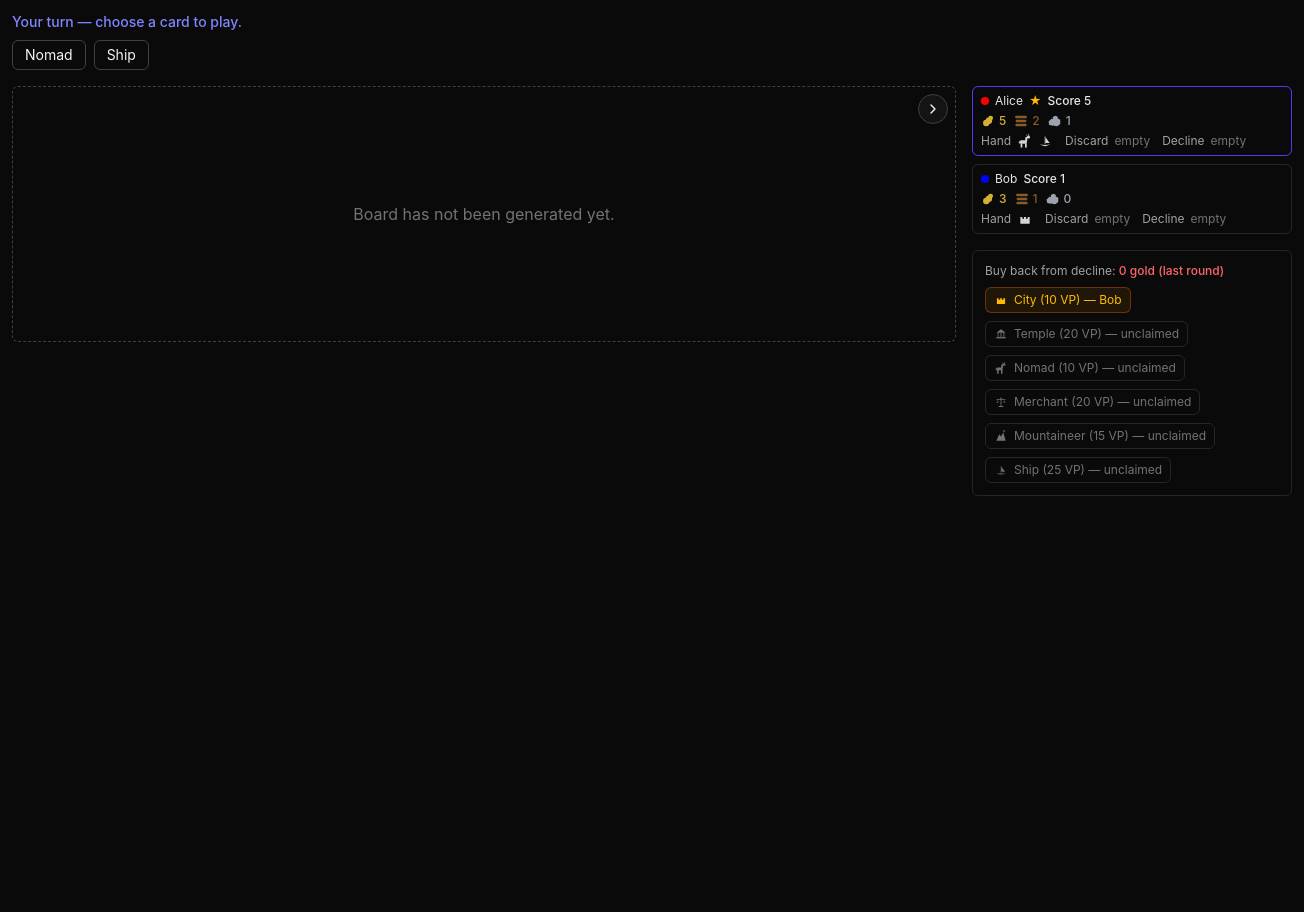
RoundView — player detail panel (click a player chip for more info) › is collapsed until a player's chip is clicked, then shows their full VP breakdown, cards by zone, unit counts, and resources — and collapses again on a second c
The width and height of the screenshot is (1304, 912).
Expected: the text "VP breakdown" is not shown
Step 1. Click the button "Alice" → (1066, 100), box [972, 86, 1292, 156]
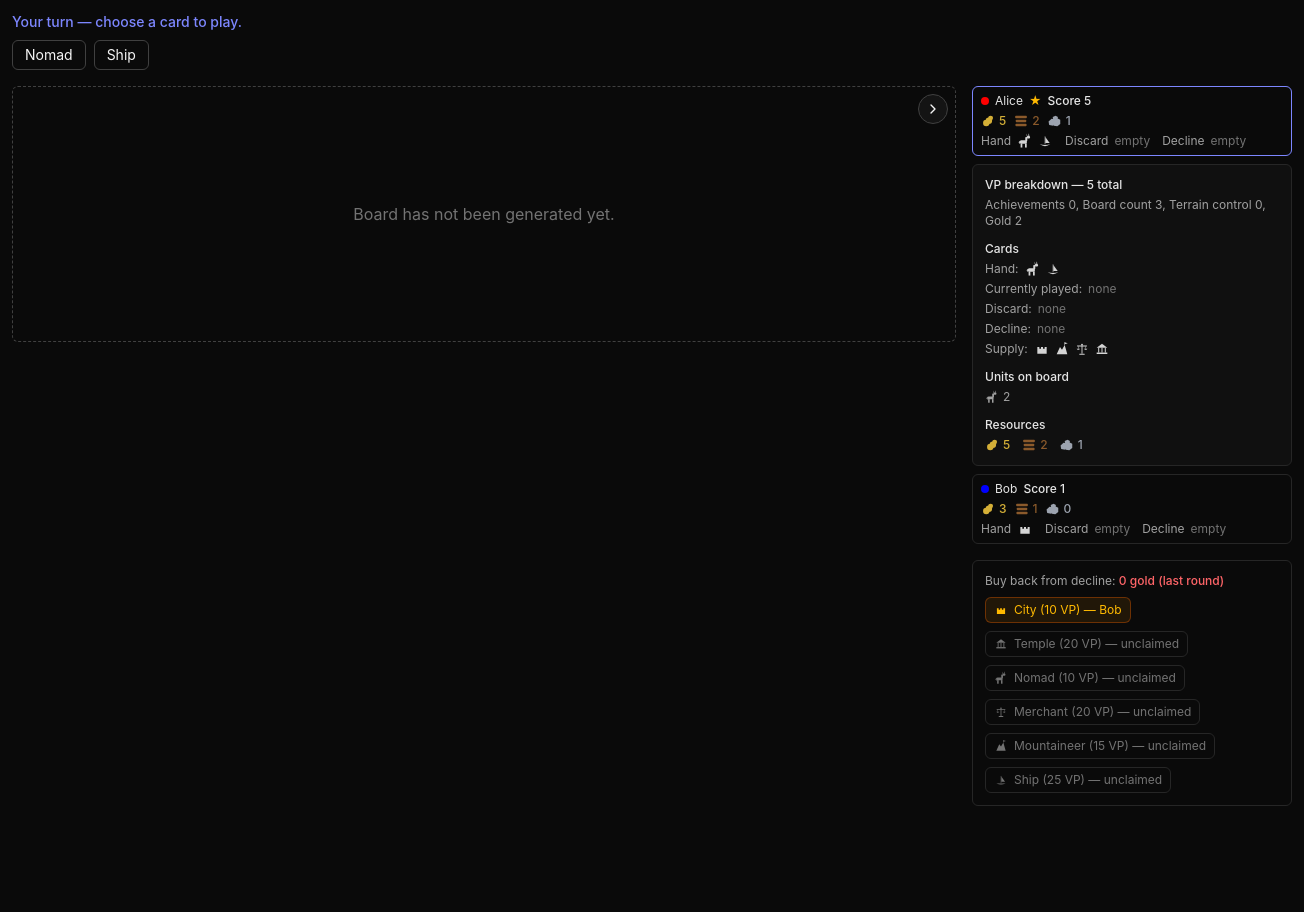
Expected: the text "VP breakdown — 5 total" is shown, [985, 177, 1122, 192]
Expected: the text "Achievements 0, Board count 3, Terrain control 0, Gold 2" is shown, [985, 197, 1279, 229]
Expected: the text "Supply:" is shown, [985, 341, 1110, 357]
Step 2. Click the button "Alice" → (1066, 100), box [972, 86, 1292, 156]
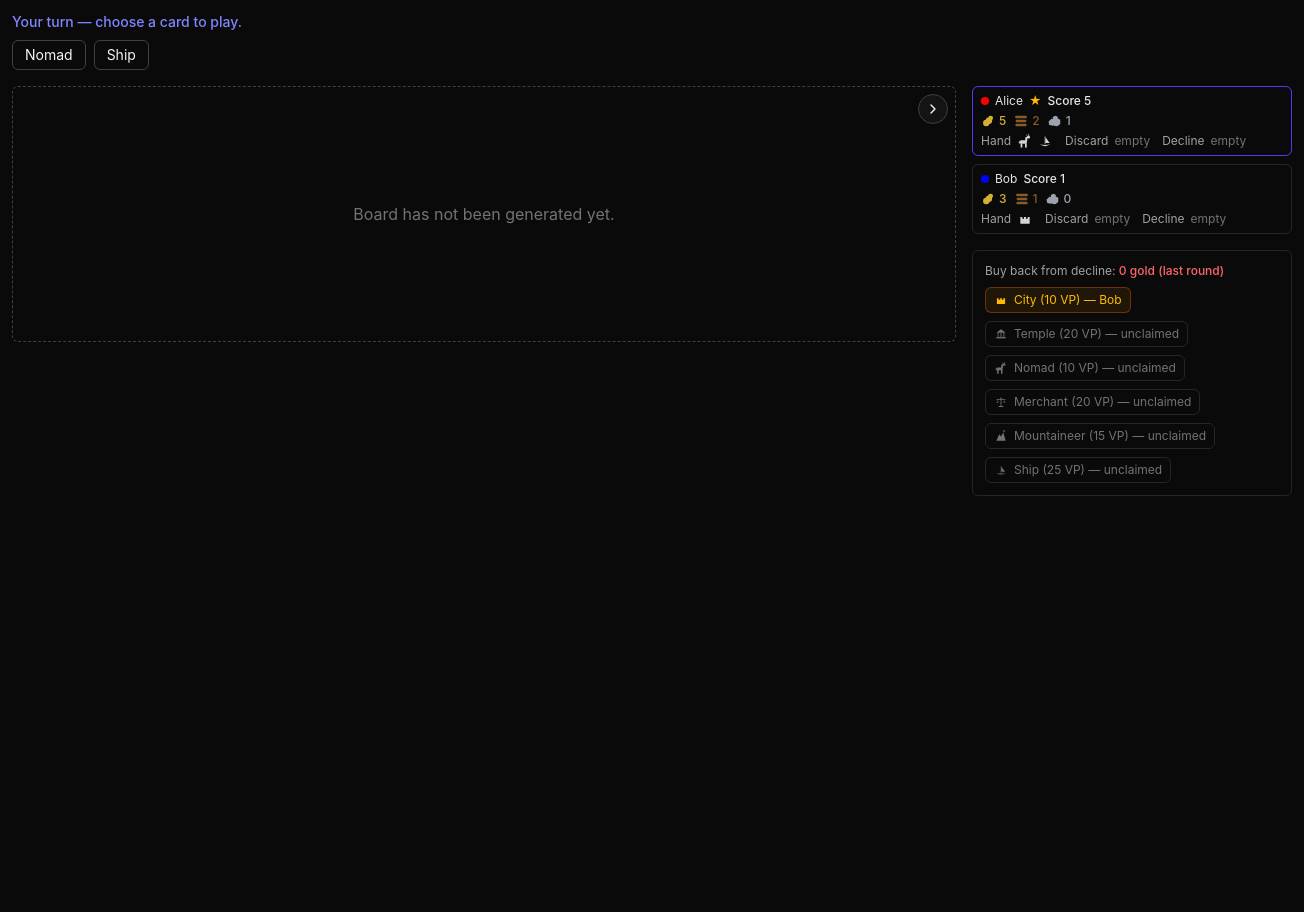
Expected: the text "VP breakdown" is gone
